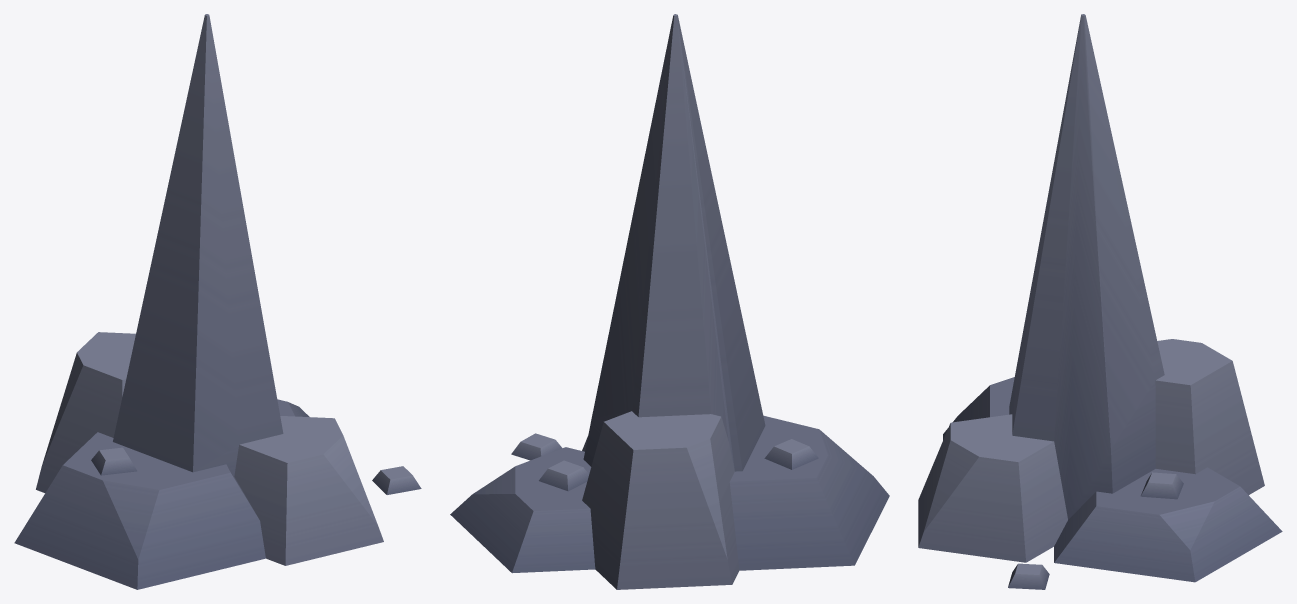
The model's file is pedra pontuda 2 cinza.glb.
The picture shows the model from 3 angles, left to right: view 1: azimuth 30°, elevation 25°; view 2: azimuth 150°, elevation 25°; view 3: azimuth 270°, elevation 25°; orthographic projection. The views are drawn at different scales.
Parts seen in each view (by area): view 1: rock-b; view 2: rock-b; view 3: rock-b.
Part boxes in pixels (x1,y1,x2,y2): rock-b: (14,14,421,589); rock-b: (450,14,889,589); rock-b: (918,14,1282,589).
Bounding box in the file's own units: 0.8346 × 1.07 × 0.7247.
Materials: 1 (1 with a texture image).
